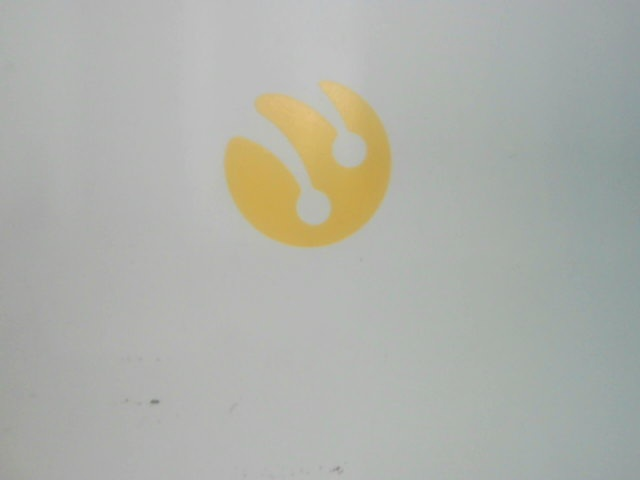AV_H3600Yellow: (204, 78, 409, 255)
